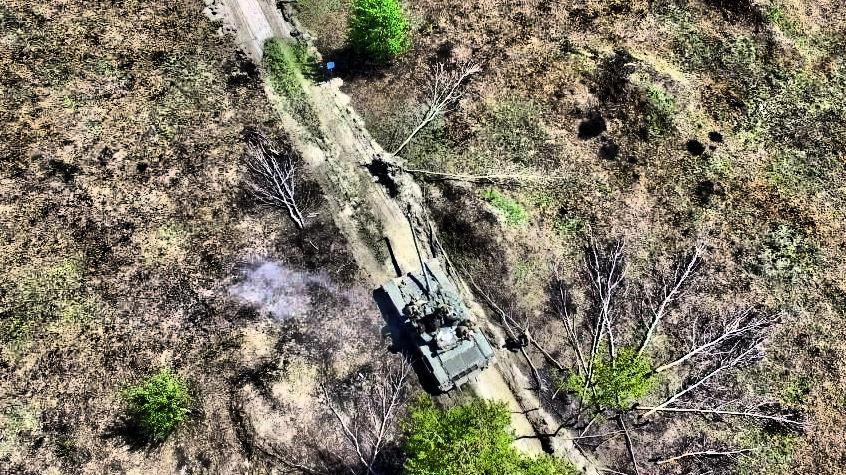military-vehicle: (382, 211, 494, 391)
